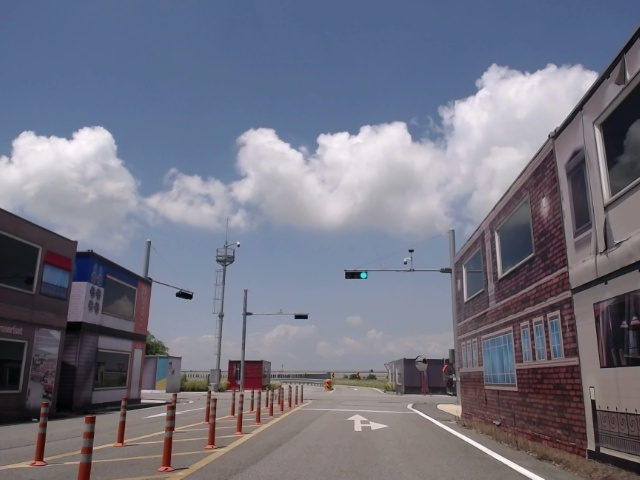green_3: (347, 272, 367, 279)
